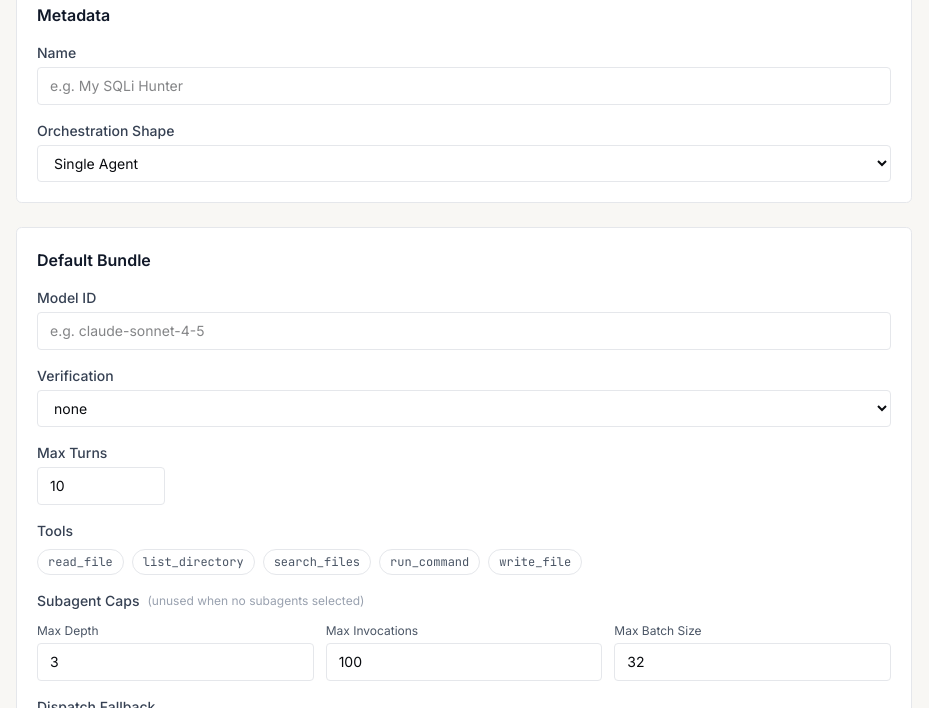
Test: StrategyEditor — new strategy › can add and reorder override rules for per_file shape
Select "Per File" in the dropdown with test id "shape-select" at point(464, 164), box [37,145,891,182]
(page scrolled)
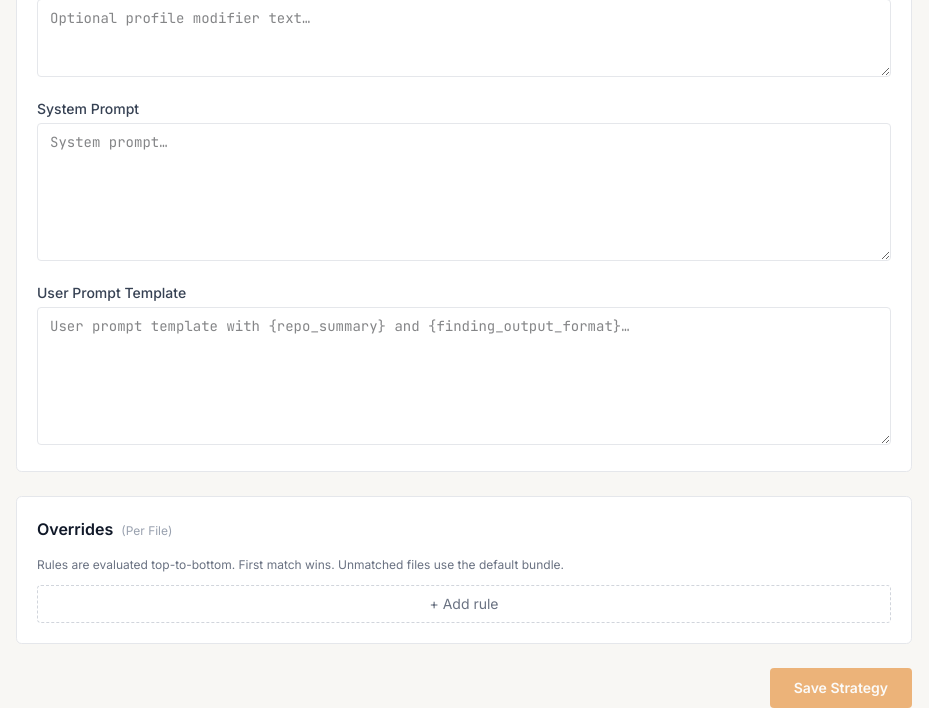
expect the button with test id "add-rule-btn" is shown: met
Note: Add two rules
Click the button with test id "add-rule-btn" at point(464, 604), box [37,585,891,623]
(page scrolled)
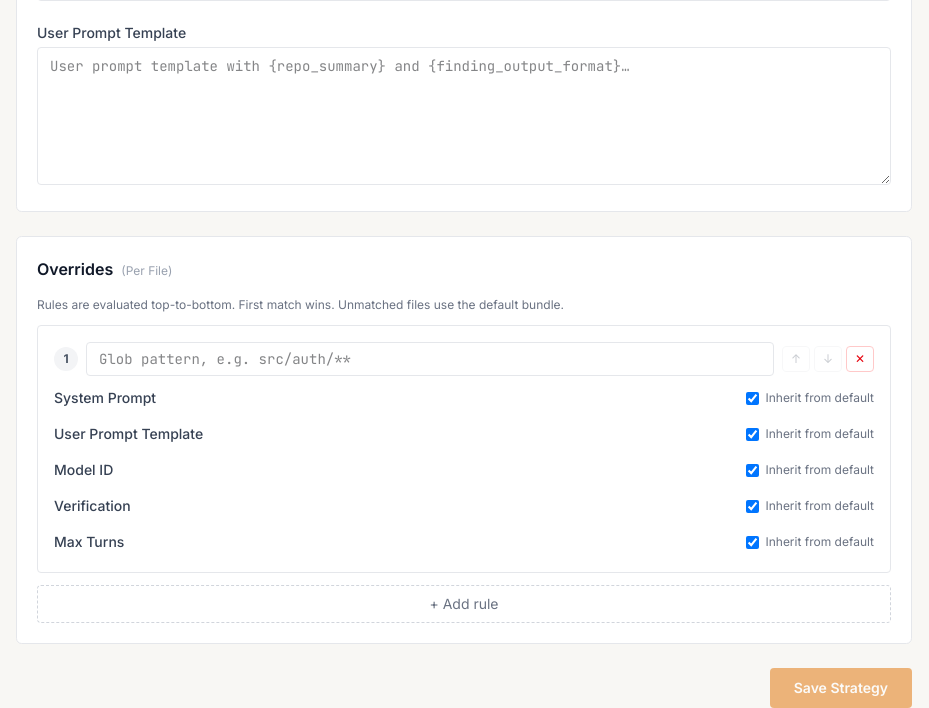
Click the button with test id "add-rule-btn" at point(464, 604), box [37,585,891,623]
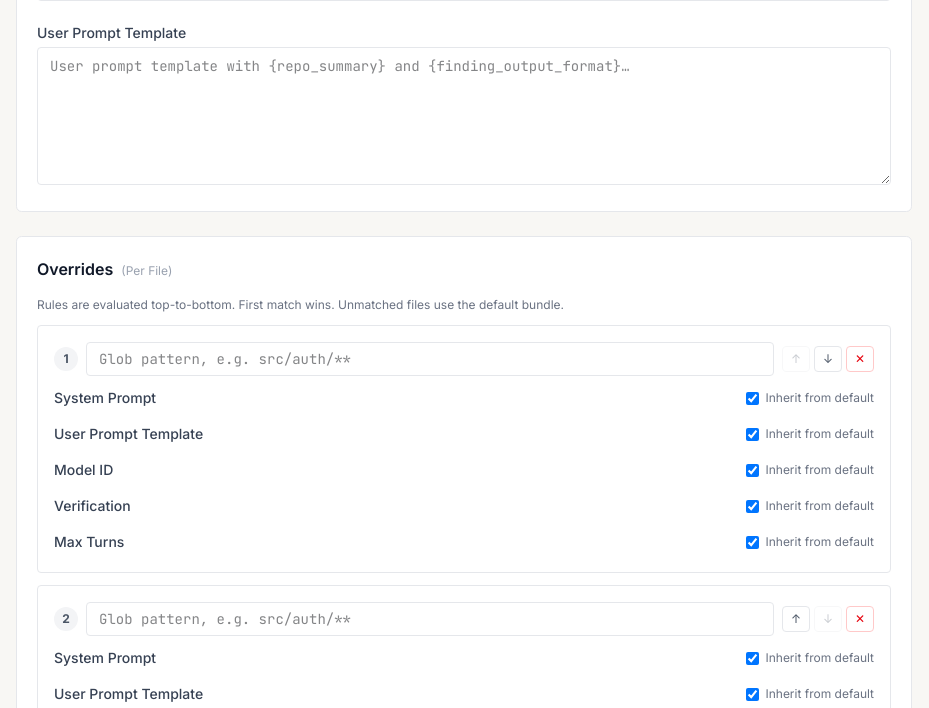
Note: Set keys
Type "src/auth/**" into the 1st field with test id "rule-key-input" at point(430, 359), box [86,342,774,376]
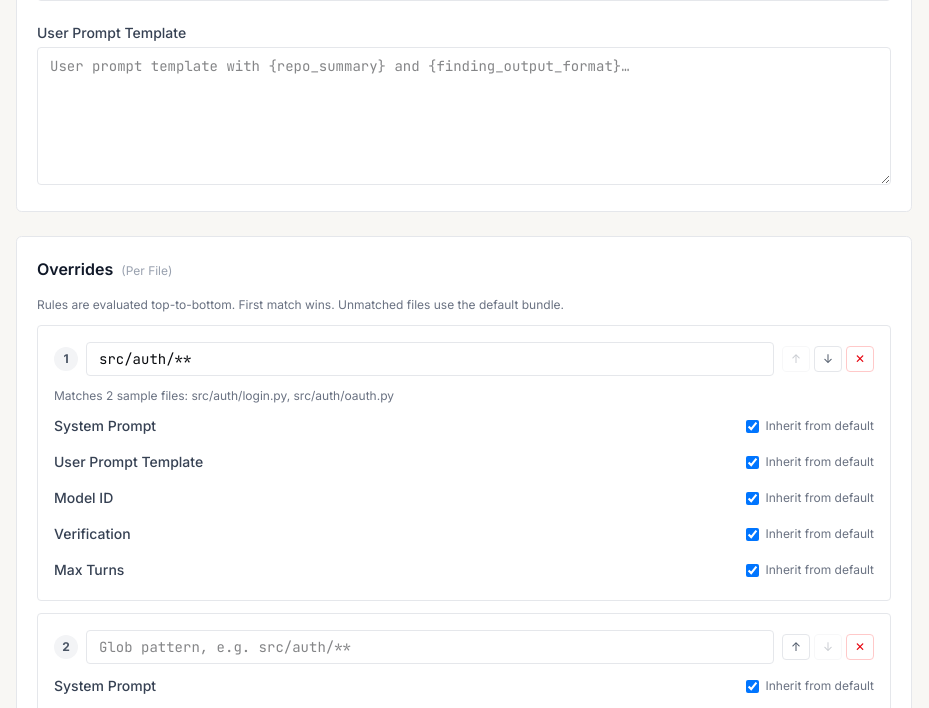
Type "*.py" into the field with test id "rule-key-input" showing "Glob pattern, e.g. src/auth/**" at point(430, 647), box [86,630,774,664]
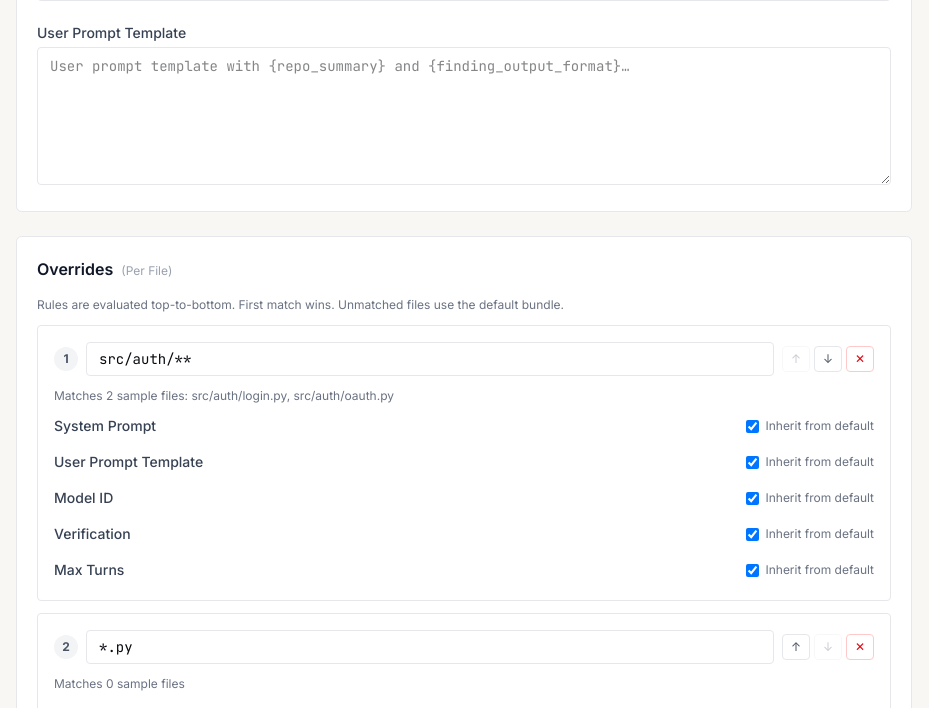
Note: Second rule's up button should be clickable
Click the button with test id "move-up-btn" at point(796, 647), box [782,634,810,660]
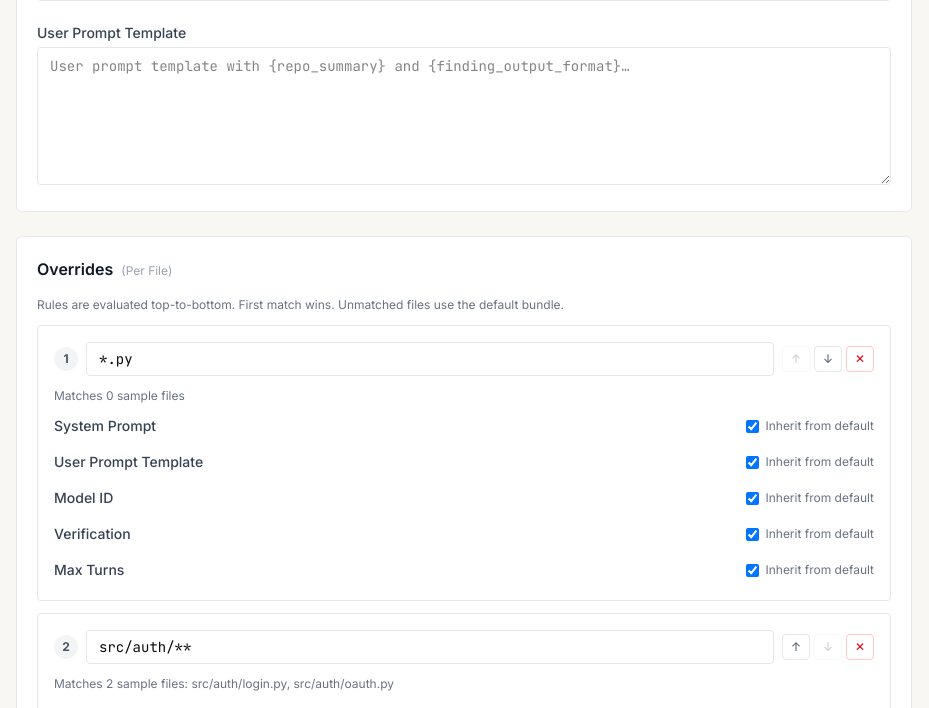
expect the 1st field with test id "rule-key-input" holds "*.py": met, box [86,342,774,376]
expect the 2nd field with test id "rule-key-input" holds "src/auth/**": met, box [86,630,774,664]
